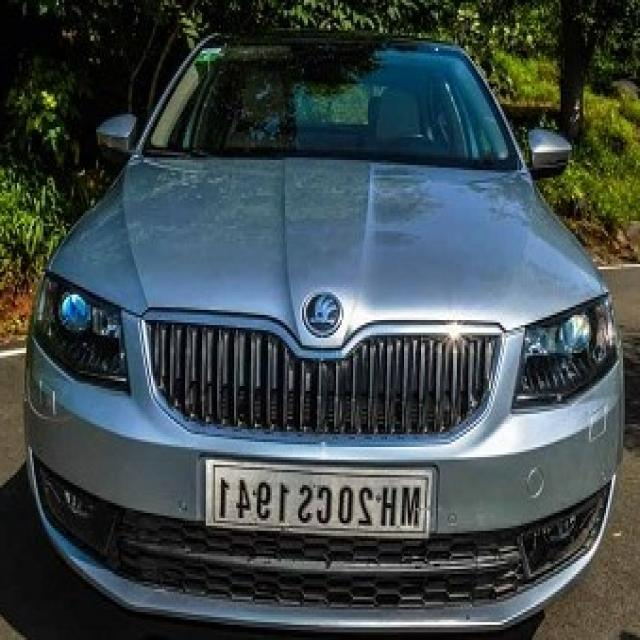number-plate: (202, 469, 448, 534)
